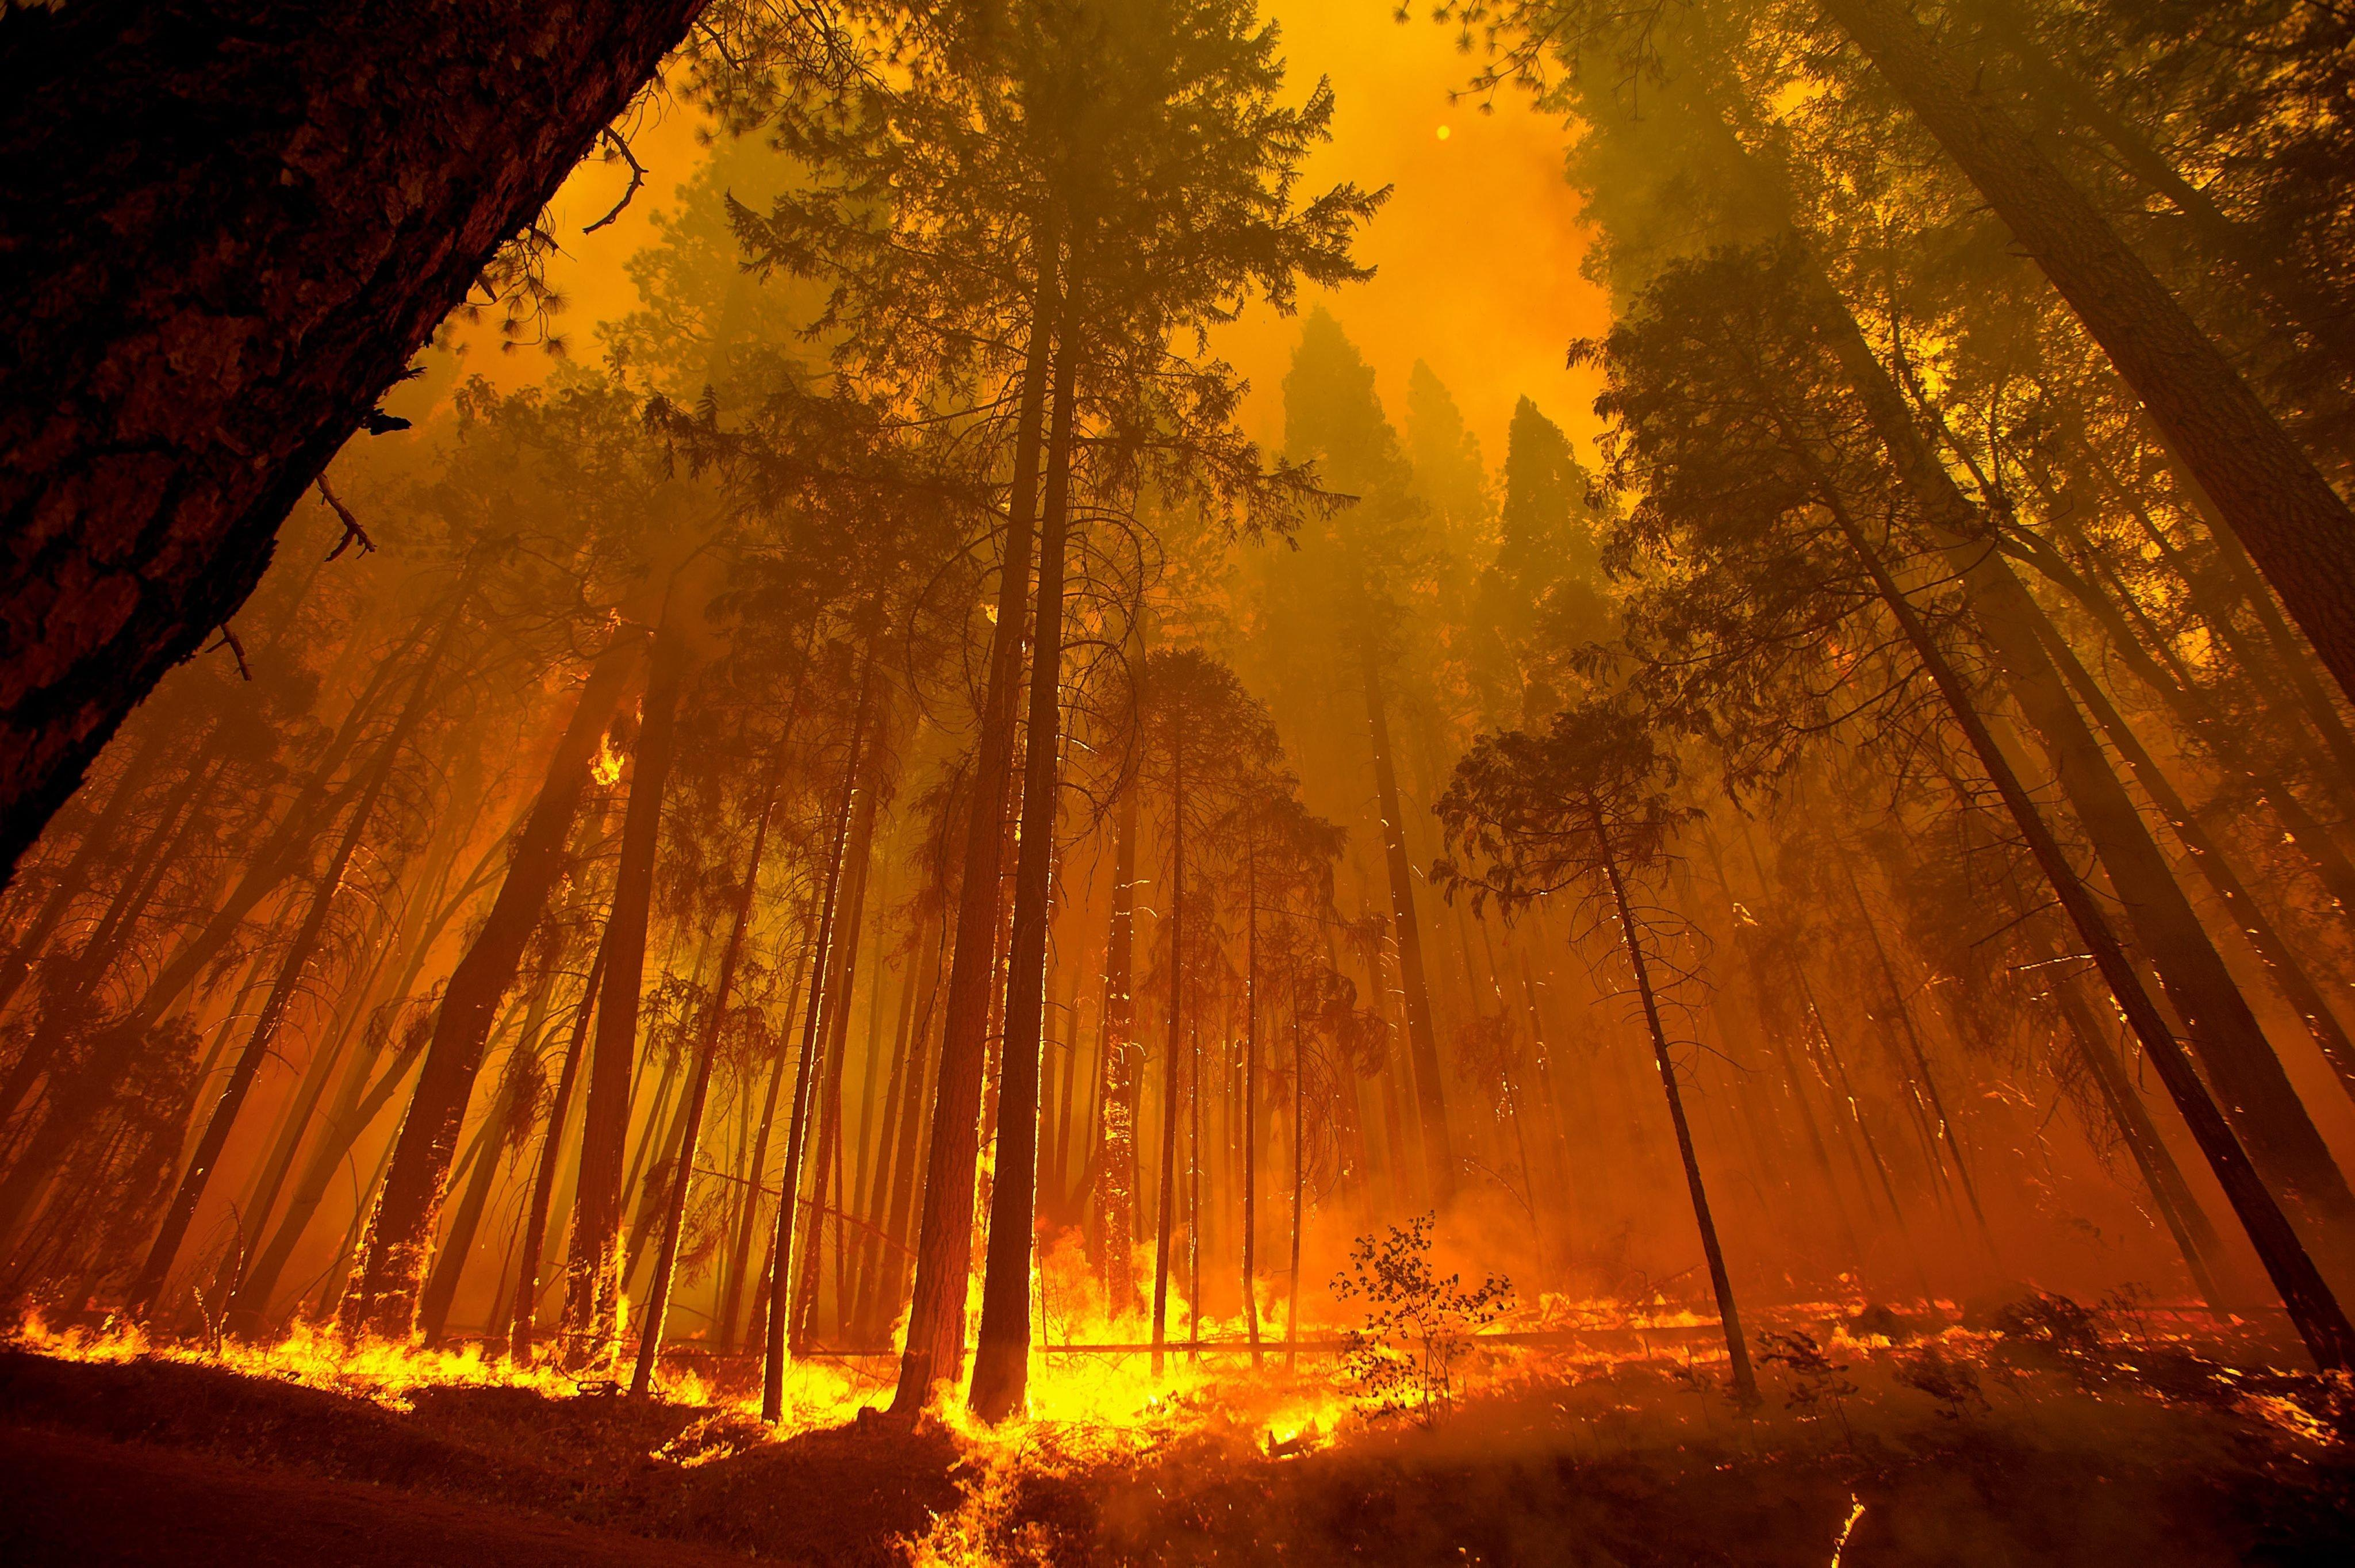Fire: (26, 1158, 2355, 1554)
